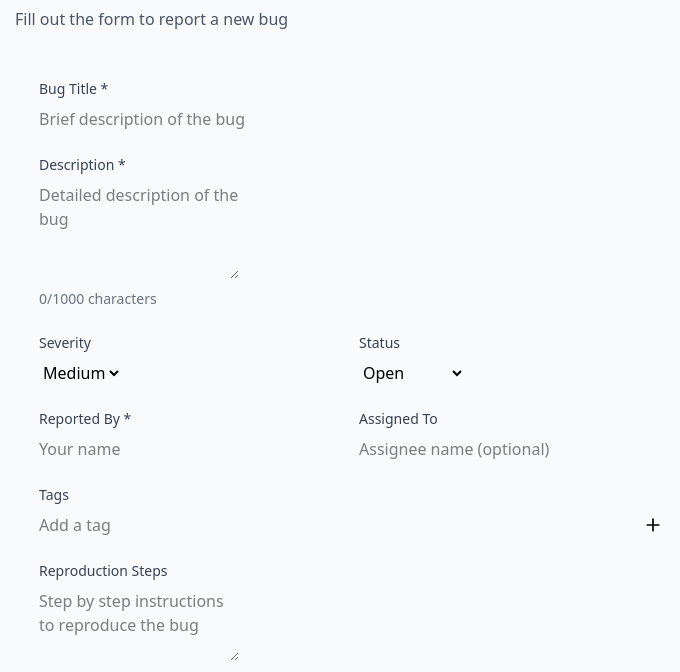
BugForm Component › validates min length of title and description
This screenshot has width=680, height=672.
Type "AB" into the field labelled "Bug Title *" at (154, 119), box [39,107,270,131]
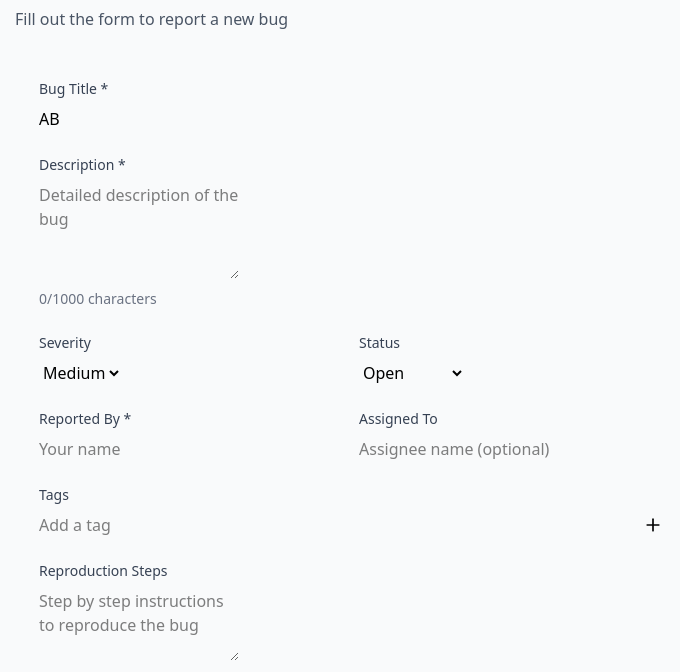
Type "short" into the text box labelled "Description *" at (139, 231), box [39,183,239,279]
(page scrolled)
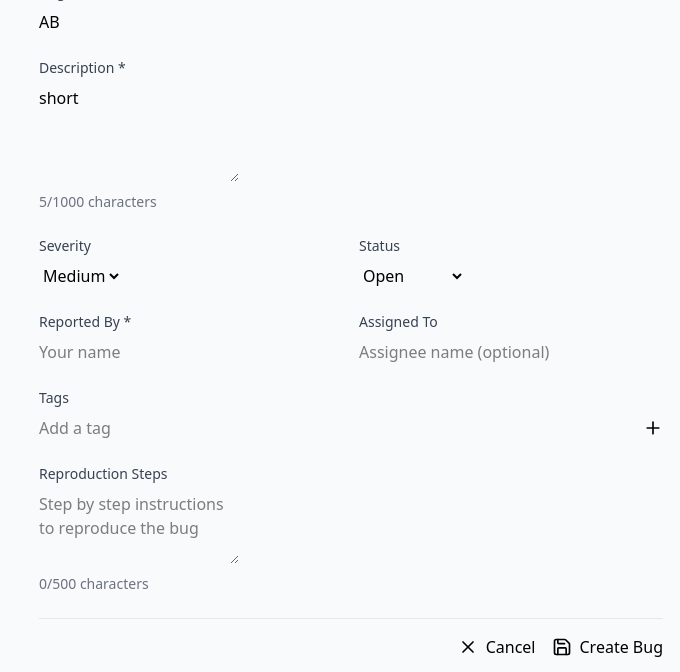
Click the button "Create Bug" at (607, 647), box [552,635,663,659]
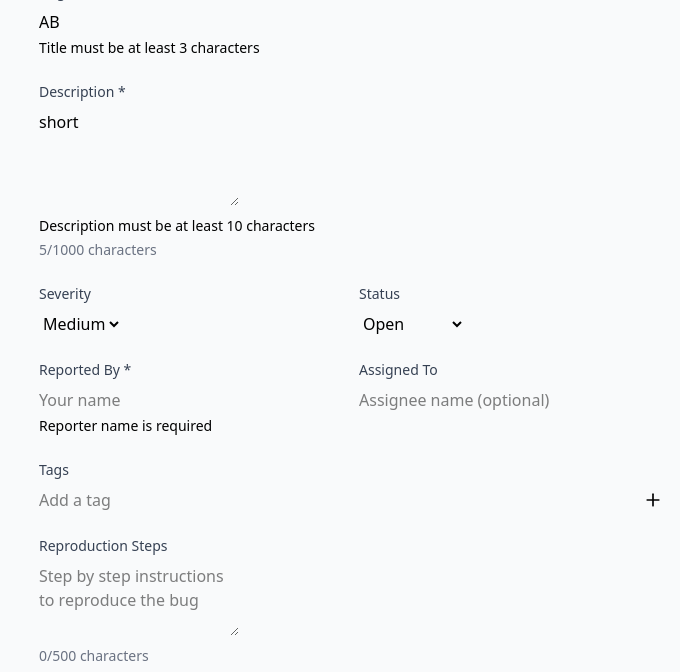
Expected: the text "Title must be at least 3 characters" is shown, [39,38,260,57]
Expected: the text "Description must be at least 10 characters" is shown, [39,216,315,235]
